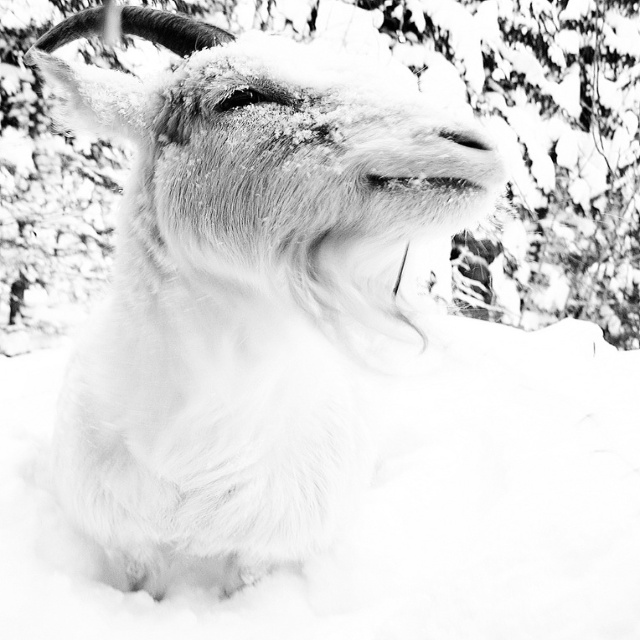Goat: (9, 0, 544, 623)
